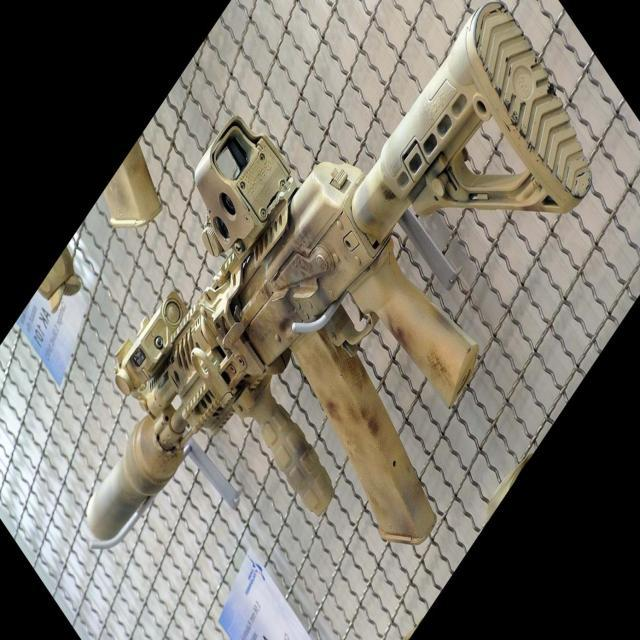weapon: (86, 0, 595, 547)
